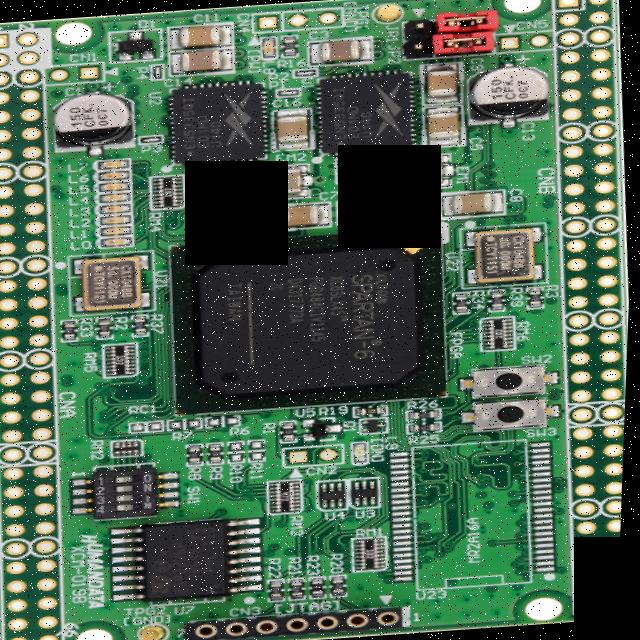-component text- -150 CFK- 0C7-: (488, 71, 537, 102)
-component text- -150 CFK-0C7-: (67, 98, 116, 127)
-component text- -25P32V6P 78646 V5 PHL 110-: (171, 522, 225, 592)
-component text- -CX104BB 30- 000M TCY1151-: (484, 232, 534, 273)
-component text- -CX104BB 50- 000M TCY1121-: (93, 260, 139, 302)
-component text- -EN5335QI E01MD U140-: (329, 80, 381, 140), (181, 90, 233, 150)
-component text- -L9-: (121, 37, 149, 49)
-component text- -XILINX SPARTAN-6 XC6SLX45TM FGG484CIV1145 D4317773A 2C TAIWAN-: (221, 268, 404, 368)
-component text- 1: (100, 473, 112, 484)
-component text- 102: (495, 326, 510, 338), (369, 546, 383, 558), (118, 352, 131, 364), (164, 184, 177, 196)
-component text- 2: (100, 484, 111, 494)
-component text- 3: (100, 492, 113, 503)
-component text- 4: (146, 480, 159, 490), (101, 502, 112, 513)
-component text- 472: (283, 488, 297, 499)
-component text- I: (148, 492, 158, 501)
-component text- M: (147, 500, 159, 508)
-component text- O: (146, 471, 159, 482)
-electrolytic capacitor- C1: (52, 92, 139, 152)
-electrolytic capacitor- C13: (465, 58, 560, 128)
-emi filter- EM1: (418, 152, 451, 188)
-emi filter- EM2: (278, 163, 314, 199)
-resistor network- RM1: (356, 534, 395, 570)
-resistor network- RM2: (115, 436, 148, 455)
-resistor network- RM3: (272, 477, 307, 512)
-resistor network- RM4: (153, 172, 188, 208)
-resistor network- RM5: (106, 340, 142, 376)
-resistor network- RM6: (483, 314, 520, 349)
-test point- P1: (276, 84, 305, 96)
-test point- P2: (295, 66, 319, 76)
-test point- P3: (140, 132, 168, 142)
-test point- P4: (153, 63, 166, 80)
-test point- TP1: (408, 196, 442, 218)
-test point- TPG1: (371, 0, 402, 24)
-test point- TPG2: (141, 622, 175, 640)
2024: (530, 284, 547, 307)
2036: (63, 317, 81, 340)
2041: (454, 290, 472, 313)
2061: (135, 312, 152, 334)
2066: (489, 287, 507, 310)
2211: (189, 441, 207, 464)
2222: (209, 439, 228, 464)
2240: (72, 462, 188, 519)
2249: (514, 50, 534, 62), (102, 80, 120, 90)
2349: (375, 436, 390, 460)
2376: (127, 612, 178, 624), (341, 0, 360, 31)
2383: (70, 530, 118, 610)
2400: (280, 597, 347, 613)
2509: (246, 47, 264, 70)
2644: (415, 607, 432, 623), (0, 22, 8, 35)
2700: (14, 18, 37, 32)
2768: (70, 618, 88, 637)
2769: (179, 624, 195, 639)
2844: (65, 84, 86, 95)
2856: (191, 12, 224, 22)
2878: (517, 116, 540, 142)
2889: (163, 75, 195, 85)
2900: (228, 189, 263, 202)
2911: (271, 95, 305, 106)
2922: (193, 197, 227, 209)
3057: (306, 26, 334, 38)
3153: (343, 180, 369, 190)
3188: (469, 133, 491, 150)
3199: (378, 182, 403, 195)
3210: (317, 187, 345, 199)
3221: (509, 186, 530, 202)
3232: (468, 51, 493, 70)
3250: (67, 46, 105, 62)
3251: (309, 463, 347, 475)
3252: (232, 604, 269, 614)
3253: (238, 10, 253, 33)
3254: (500, 16, 555, 32)
3257: (60, 387, 85, 417)
3258: (535, 164, 562, 194)
3269: (134, 18, 158, 27)
3339: (455, 163, 475, 183)
3340: (274, 149, 312, 162)
3430: (450, 328, 470, 360)
3521: (383, 22, 404, 40)
3527: (382, 39, 407, 63)
3560: (69, 238, 98, 250)
3561: (70, 226, 94, 238)
3563: (69, 215, 97, 228)
3564: (69, 203, 96, 216)
3565: (67, 193, 94, 204)
3566: (64, 182, 95, 194)
3567: (67, 171, 95, 184)
3568: (68, 158, 93, 172)
3569: (263, 57, 277, 71)
3570: (388, 433, 405, 448)
3624: (467, 510, 492, 565)
3637: (269, 76, 293, 87)
3648: (269, 70, 292, 78)
3659: (141, 141, 165, 153)
3670: (132, 64, 152, 81)
3753: (344, 417, 361, 432)
3766: (265, 418, 282, 432)
3767: (230, 459, 248, 482)
3778: (251, 459, 271, 479)
3833: (278, 54, 309, 68)
3866: (320, 402, 355, 413)
3877: (115, 314, 135, 330)
3878: (332, 550, 352, 572)
3889: (292, 554, 307, 574)
3900: (270, 554, 292, 576)
3911: (309, 550, 330, 574)
3932: (411, 432, 446, 444)
3943: (408, 397, 443, 408)
3985: (548, 282, 563, 298)
4001: (81, 315, 98, 335)
4006: (474, 286, 492, 308)
4027: (152, 310, 170, 333)
4032: (510, 283, 527, 306)
4157: (231, 424, 259, 434)
4168: (173, 428, 198, 440)
4179: (191, 465, 208, 479)
4190: (211, 462, 229, 480)
4201: (129, 400, 163, 413)
4210: (358, 524, 389, 535)
4211: (92, 436, 111, 459)
4212: (290, 512, 311, 536)
4213: (149, 208, 166, 232)
4214: (82, 347, 105, 372)
4215: (519, 318, 536, 342)
4266: (190, 483, 207, 503)
4270: (520, 351, 559, 364)
4271: (528, 424, 563, 435)
4303: (406, 188, 437, 197)
4325: (353, 0, 372, 27)
4326: (126, 602, 174, 615)
4331: (380, 590, 404, 605)
4341: (301, 74, 318, 87)
4352: (146, 88, 167, 105)
4354: (155, 265, 174, 289)
4355: (445, 246, 463, 272)
4356: (417, 587, 458, 600)
4363: (357, 506, 382, 517)
4367: (325, 509, 353, 521)
4368: (297, 404, 322, 416)
4370: (178, 601, 202, 614)
4440: (303, 412, 346, 442)
button SW2: (463, 360, 566, 398)
button SW3: (465, 392, 568, 430)
capacitor C110: (168, 20, 235, 49)
capacitor C140: (171, 46, 236, 76)
capacitor C150: (191, 163, 259, 192)
capacitor C160: (275, 106, 316, 150)
capacitor C170: (195, 206, 260, 234)
capacitor C30: (308, 34, 375, 64)
capacitor C40: (339, 150, 406, 179)
capacitor C50: (421, 105, 465, 146)
capacitor C60: (338, 195, 406, 222)
capacitor C70: (268, 199, 333, 228)
capacitor C80: (441, 186, 509, 216)
capacitor C90: (422, 60, 463, 104)
clock U22: (70, 248, 160, 313)
clock U4: (463, 220, 553, 285)
connector CN2: (49, 60, 105, 82)
connector CN3: (287, 442, 349, 466)
connector CN4: (193, 604, 411, 638)
connector CN5: (254, 6, 344, 32)
connector CN6: (499, 28, 555, 50)
connector CNB: (0, 26, 87, 640)
connector CON2: (536, 0, 640, 610)
connector JP11: (405, 15, 440, 35)
connector JP20: (404, 34, 436, 58)
diode D10: (109, 26, 164, 61)
ic U1: (315, 66, 423, 156)
ic U2: (165, 75, 278, 167)
ic U3: (356, 475, 387, 507)
ic U4: (319, 476, 352, 509)
ic U5: (167, 222, 457, 412)
ic U7: (114, 512, 271, 602)
inductor unknown: (363, 414, 392, 432)
jumper JP1: (434, 6, 501, 34)
jumper JP2: (430, 27, 501, 54)
led L0: (97, 233, 136, 247)
led L1: (96, 223, 138, 236)
led L2: (97, 213, 135, 224)
led L3: (97, 202, 133, 214)
led L4: (96, 190, 135, 202)
led L5: (96, 179, 133, 190)
led L6: (96, 168, 133, 178)
led L7: (98, 156, 134, 166)
led L8: (264, 32, 279, 56)
led L9: (356, 440, 373, 463)
pads R10: (231, 437, 252, 463)
pads R11: (251, 435, 274, 460)
pads R6: (208, 410, 248, 428)
pads R7: (172, 416, 207, 428)
pads RC1: (131, 418, 169, 431)
pads U23: (389, 438, 566, 591)
resistor R10: (282, 418, 302, 444)
resistor R160: (283, 32, 304, 54)
resistor R190: (356, 403, 394, 414)
resistor R20: (100, 314, 117, 337)
resistor R200: (335, 574, 353, 596)
resistor R210: (292, 575, 310, 599)
resistor R220: (270, 576, 291, 600)
resistor R230: (313, 575, 331, 598)
resistor R250: (410, 420, 446, 432)
resistor R260: (410, 407, 446, 419)
